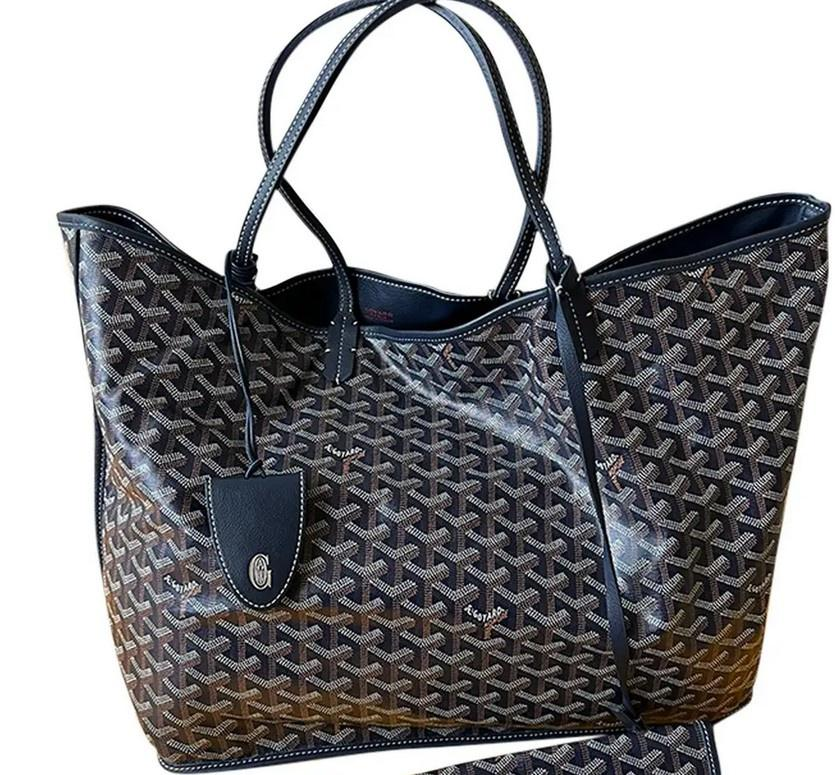GOYARD: (58, 224, 825, 761), (430, 721, 706, 775)
